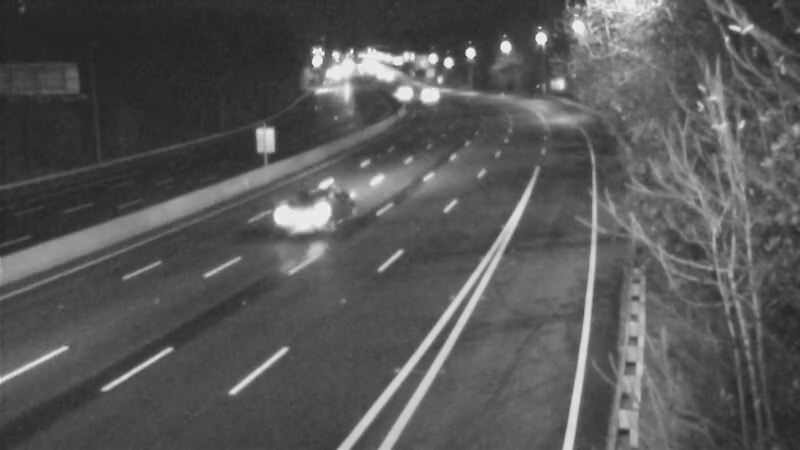vehicle: (274, 160, 354, 240), (404, 65, 454, 115), (371, 70, 421, 120)
